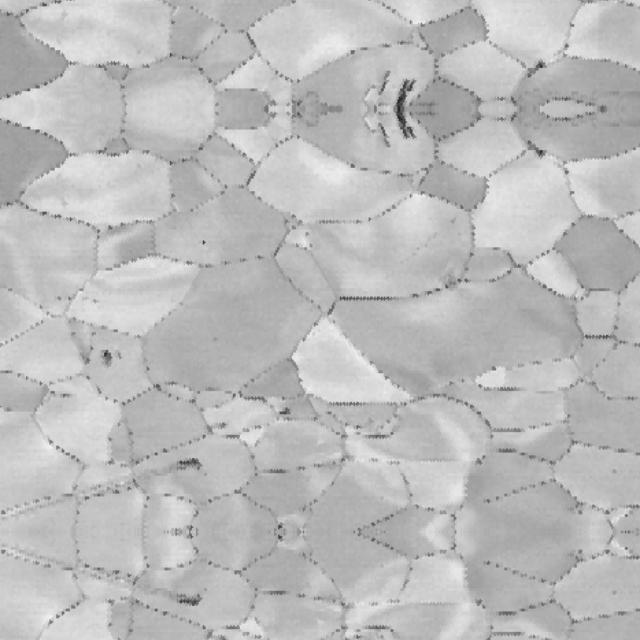good_void: (393, 108, 419, 143), (393, 73, 419, 108), (168, 452, 205, 473), (168, 590, 205, 611), (272, 401, 296, 427), (98, 348, 122, 369), (525, 138, 547, 158), (525, 58, 547, 78), (376, 119, 391, 146), (376, 70, 391, 97), (469, 453, 488, 467), (469, 596, 488, 610), (210, 418, 230, 431), (210, 632, 230, 640), (87, 295, 102, 305), (609, 466, 620, 476), (609, 587, 620, 597), (447, 215, 459, 224), (211, 333, 221, 343), (200, 238, 209, 247)
